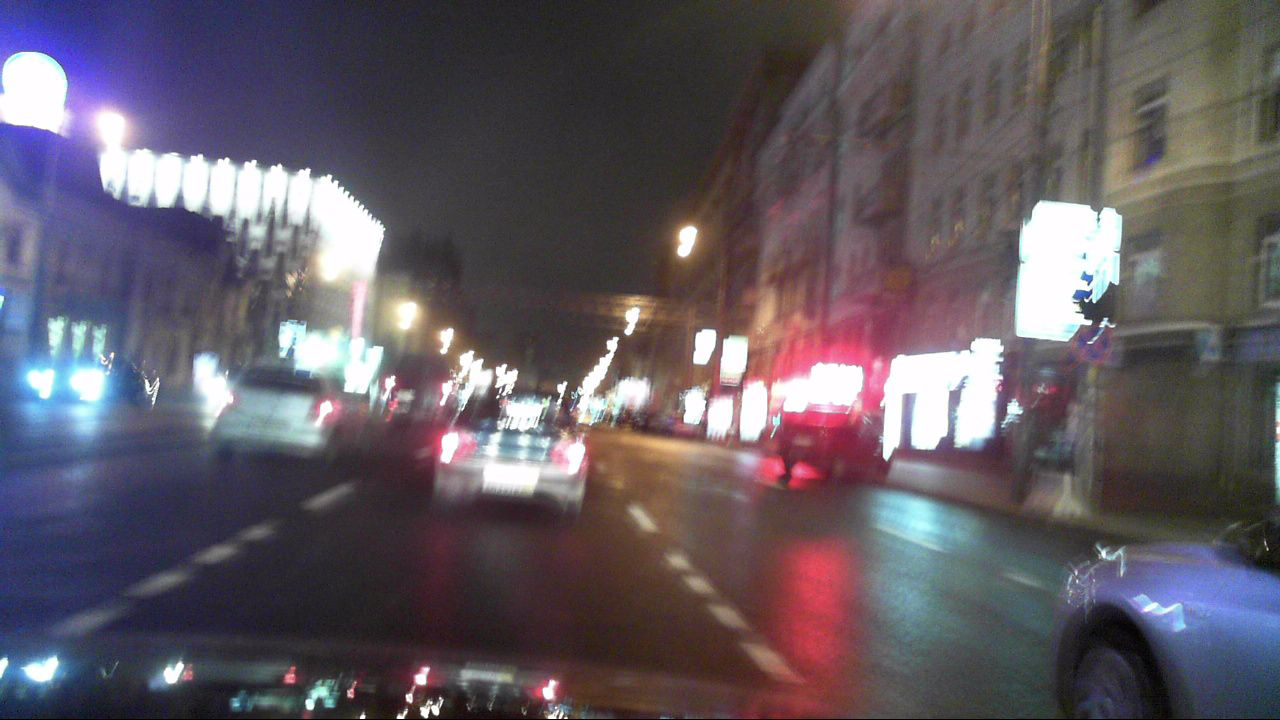No Parking: (1073, 325, 1114, 365)
